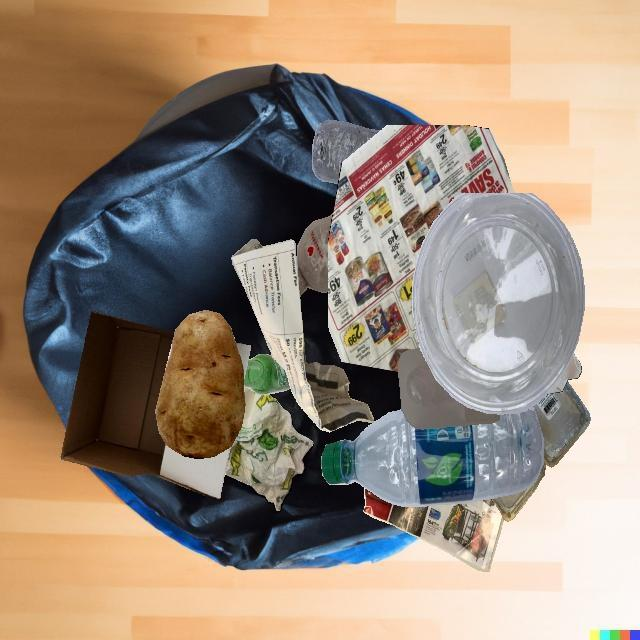biowaste: (155, 310, 245, 459)
cardboard: (60, 311, 230, 499)
glass: (244, 354, 291, 395)
paper: (328, 125, 515, 372), (231, 239, 374, 432), (363, 488, 504, 572), (224, 387, 314, 512), (547, 353, 581, 394)
plastic: (412, 193, 584, 414), (321, 408, 544, 507), (491, 381, 591, 521), (398, 348, 499, 429), (312, 120, 381, 184), (297, 213, 333, 296)
